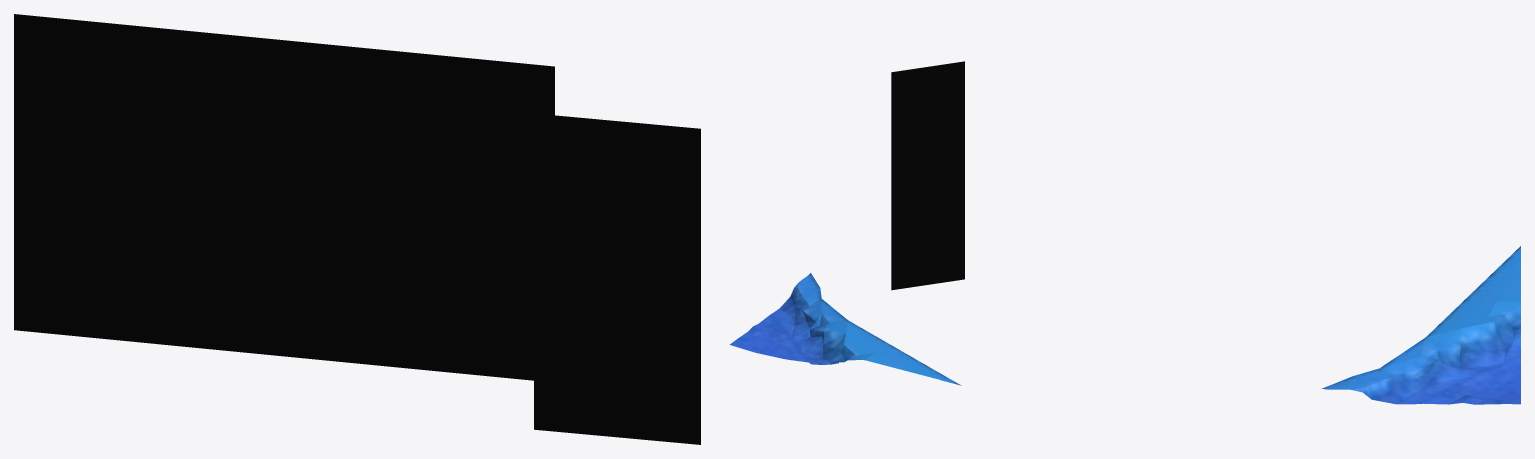
3 renders of one model, left to right at view 1: azimuth 30°, elevation 25°; view 2: azimuth 150°, elevation 25°; view 3: azimuth 270°, elevation 25°, orthographic. The views are drawn at different scales.
Bounding box in the file's own units: 11.84 × 9 × 14.93.
Materials: 2 (2 with a texture image).
